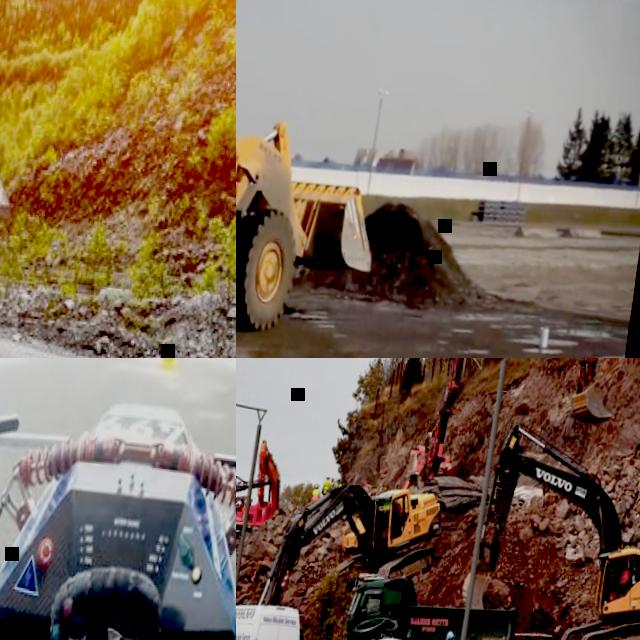Hardhat: (446, 632, 454, 640), (621, 564, 627, 570), (315, 483, 320, 489), (331, 476, 336, 481), (326, 474, 331, 479), (395, 503, 399, 509), (338, 476, 342, 480)
Person: (610, 563, 631, 603), (393, 501, 405, 522), (321, 473, 332, 494), (312, 482, 322, 499), (445, 632, 462, 640), (335, 476, 343, 488), (330, 476, 336, 488)
Safety Vest: (619, 571, 631, 585), (395, 505, 404, 521), (322, 479, 332, 493), (312, 488, 321, 497), (336, 481, 343, 488), (331, 482, 334, 488)
vehicle: (0, 358, 236, 640), (236, 21, 398, 358), (456, 416, 640, 640), (257, 473, 459, 629), (343, 568, 521, 640), (402, 358, 471, 494), (564, 358, 640, 473), (236, 428, 288, 556), (236, 595, 306, 640)
